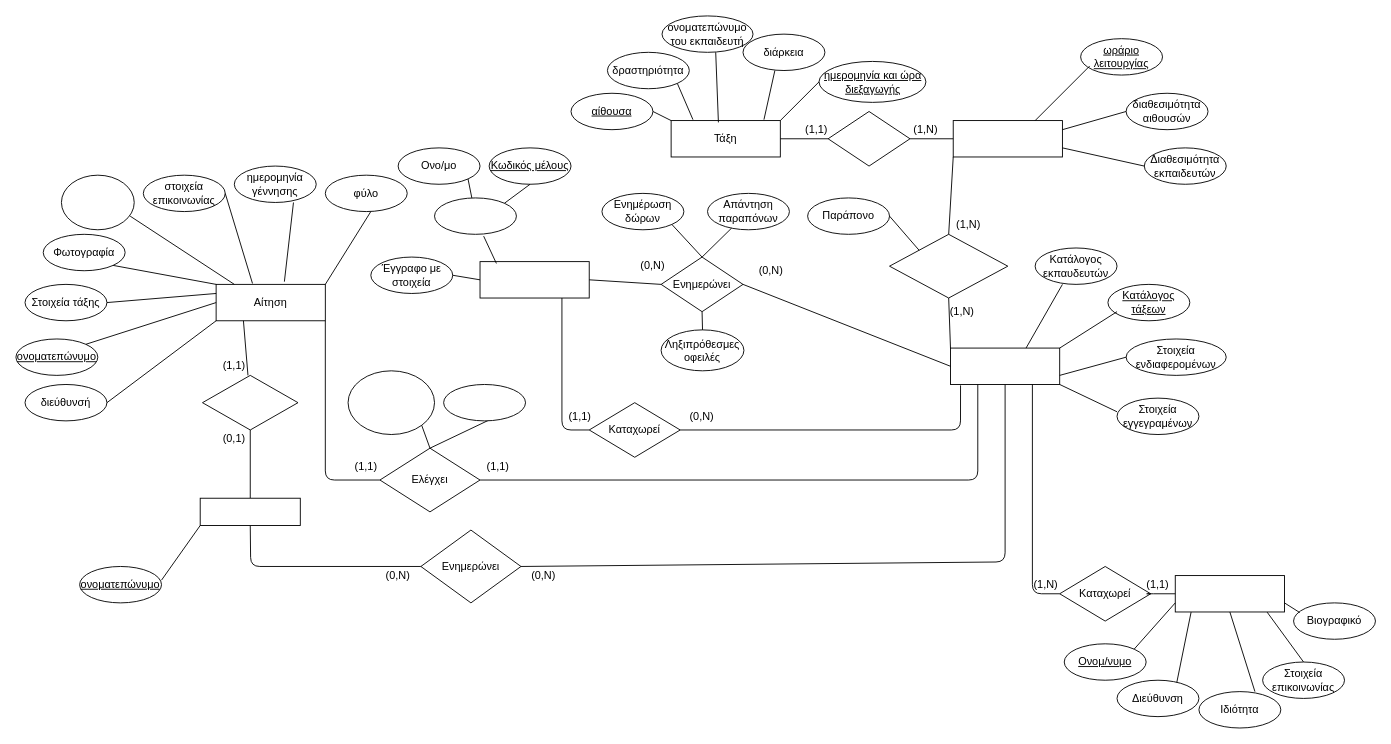
This 1391x744 diagram has some shape labels left out. The centre of each missing label's shape, as x and y in pixels:
"Γραμματεία" goes at point (1005, 365).
"Δημιουργεί" goes at point (868, 138).
"Δημιουργεί / Αναποσαρμόζει" goes at point (948, 265).
"Εγγεγραμενος" goes at point (534, 279).
"Εκπαιδευτές" goes at point (1229, 593).
"Ενδιαφερόμενος" goes at point (249, 511).
"Ιατρική βεβαίωση" goes at point (484, 402).
"Κάρτα μέλους" goes at point (475, 215).
"Πρόγραμμα" goes at point (1007, 138).
"Συμπληρώνει" goes at point (250, 402).
"Χρονικό διάστημα εγγραφής" goes at point (97, 202).
"Χρονικό διάστημα εγγραφής 3-12 μήνες" goes at point (391, 402).
